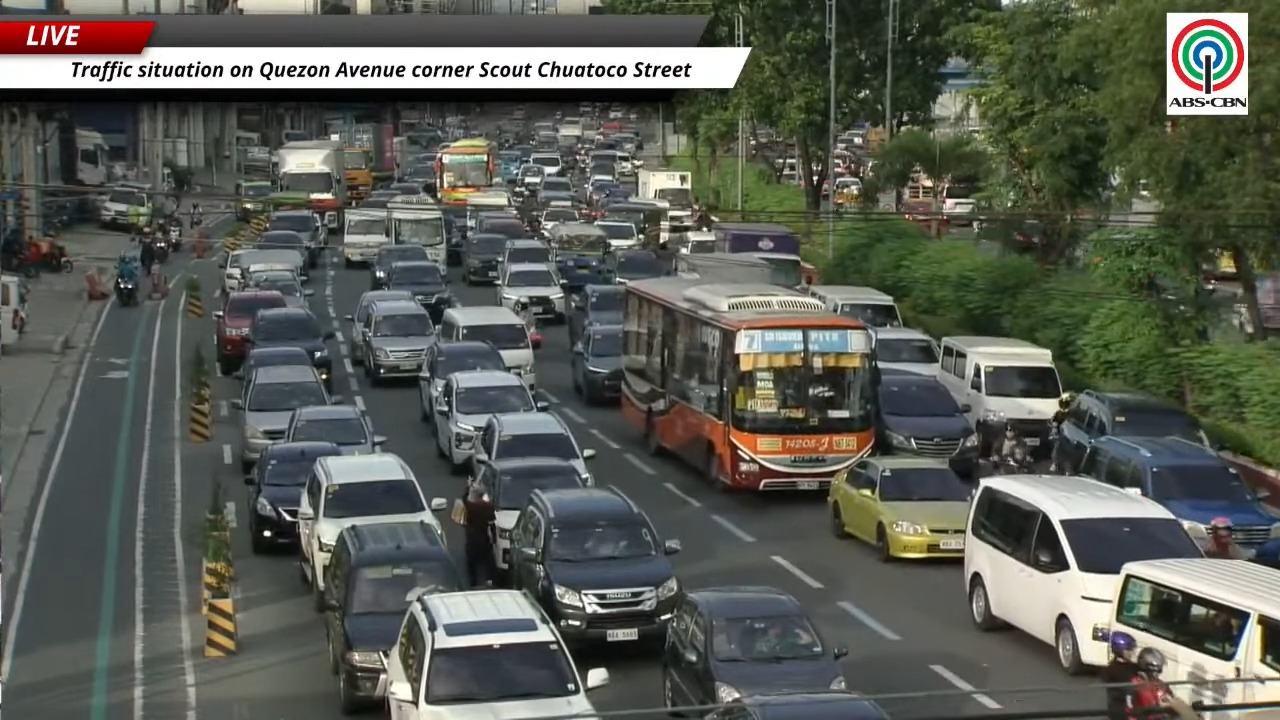bus: (620, 277, 874, 490), (1091, 558, 1279, 705), (435, 138, 497, 204)
car: (965, 475, 1203, 674), (387, 590, 607, 719), (509, 486, 680, 643), (324, 522, 463, 713), (298, 453, 446, 611), (1080, 435, 1279, 549), (662, 587, 847, 707), (828, 456, 972, 560), (1053, 390, 1210, 473), (474, 457, 584, 575), (434, 369, 548, 471), (875, 370, 978, 475), (231, 366, 333, 472), (245, 441, 341, 553), (472, 413, 595, 484), (438, 305, 540, 388), (418, 341, 508, 422), (248, 307, 335, 389), (360, 301, 435, 384), (213, 290, 286, 374), (704, 690, 888, 719), (344, 290, 413, 365), (284, 405, 385, 455), (385, 261, 456, 323), (219, 246, 307, 293), (497, 263, 565, 322), (572, 325, 622, 404), (567, 285, 624, 345), (267, 211, 326, 267), (873, 327, 938, 376), (255, 230, 317, 276), (370, 244, 429, 289), (235, 346, 312, 378), (246, 270, 312, 307), (462, 234, 507, 284), (605, 250, 664, 285), (499, 238, 553, 269), (235, 180, 273, 221), (442, 206, 466, 267), (474, 209, 524, 238), (476, 213, 528, 239), (595, 221, 639, 250), (540, 207, 578, 231), (360, 189, 402, 208), (530, 152, 562, 176), (540, 177, 573, 199), (516, 165, 546, 189), (388, 178, 424, 195)
motorcycle: (27, 239, 73, 272), (979, 453, 1034, 475), (115, 277, 137, 305), (152, 236, 171, 264), (166, 218, 182, 251)
truck: (270, 140, 346, 230), (713, 223, 816, 287), (331, 123, 395, 201), (386, 195, 447, 267), (47, 119, 110, 186), (635, 169, 693, 235), (672, 252, 774, 284), (342, 208, 391, 267), (636, 169, 692, 209)
